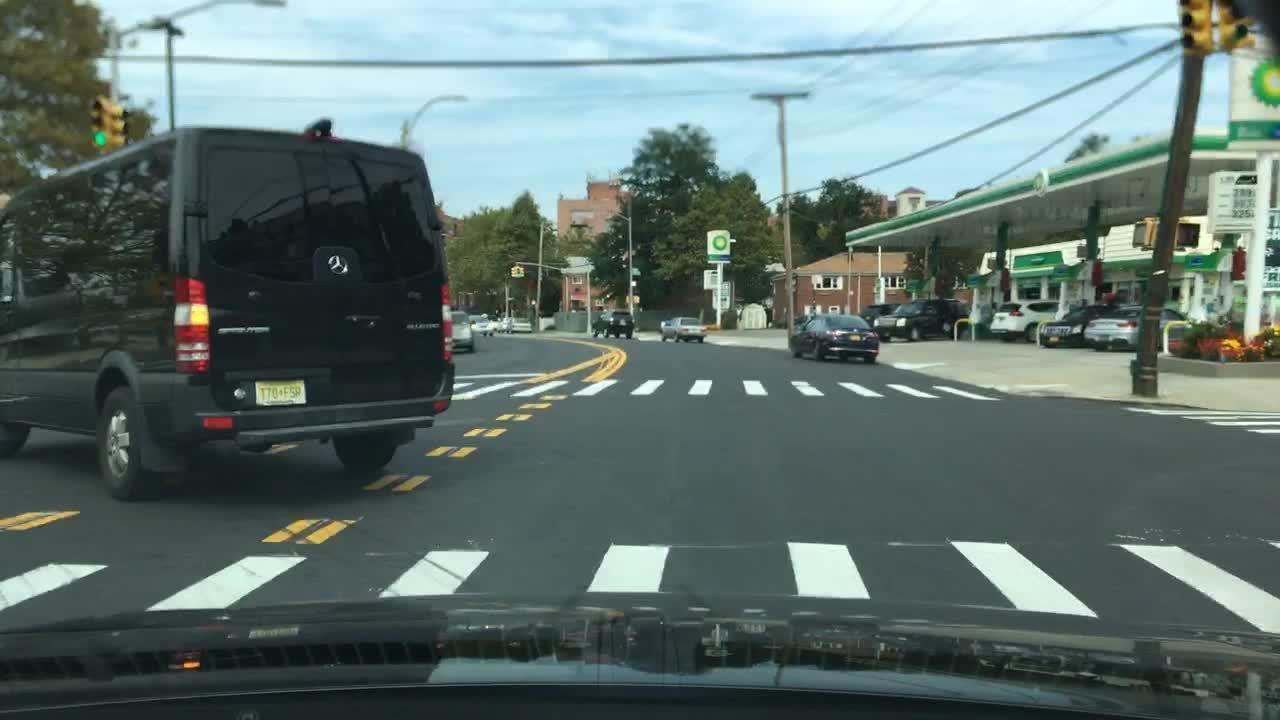Mercedes: (321, 249, 359, 287)
